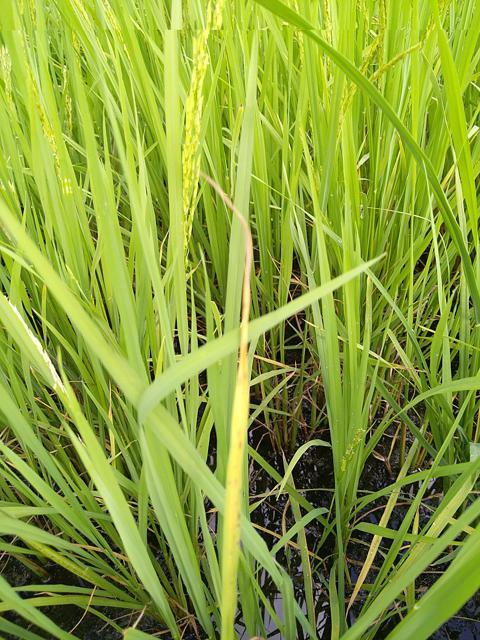Leaf Blight: (198, 169, 253, 639)
